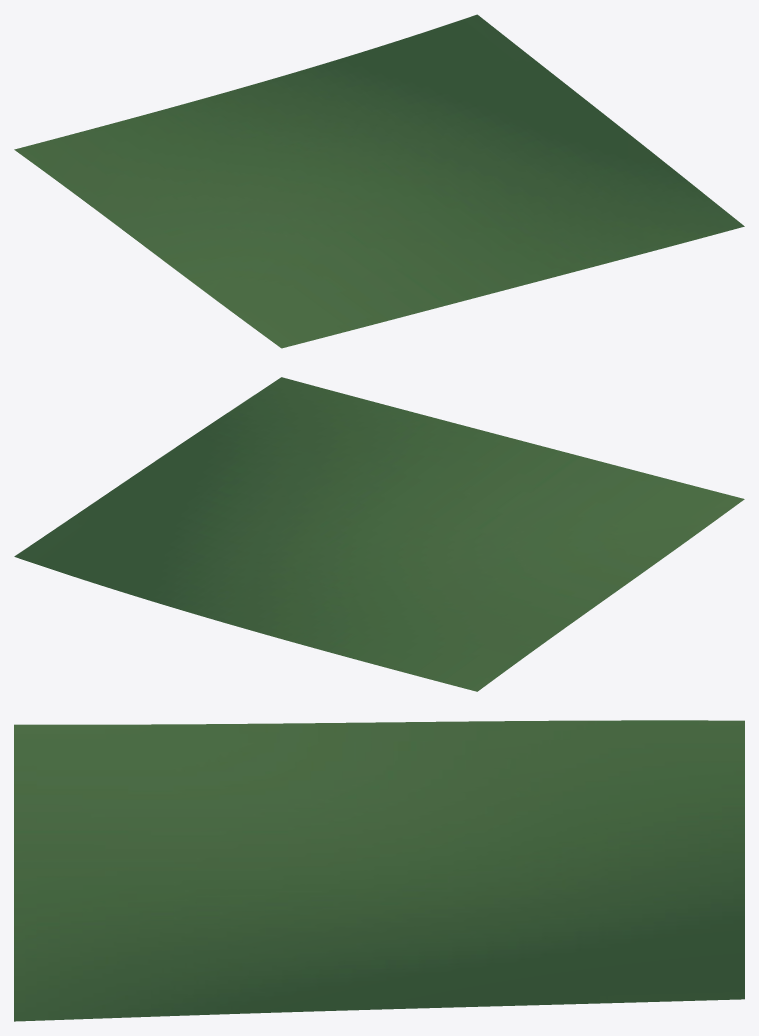
The model's file is terrain_T_W03_N05.glb.
The picture shows the model from 3 angles, top to bottom: view 1: azimuth 30°, elevation 25°; view 2: azimuth 150°, elevation 25°; view 3: azimuth 270°, elevation 25°; orthographic projection. The views are drawn at different scales.
Visible parts, largest first — view 1: Terrain_T_W03_N05; view 2: Terrain_T_W03_N05; view 3: Terrain_T_W03_N05.
Part boxes in pixels (<box>): Terrain_T_W03_N05: <box>14,14,744,348</box>; Terrain_T_W03_N05: <box>14,377,744,691</box>; Terrain_T_W03_N05: <box>14,720,744,1021</box>.
Size of the model in its own units: 2000 by 104 by 2000.
Materials: 1 (1 with a texture image).
